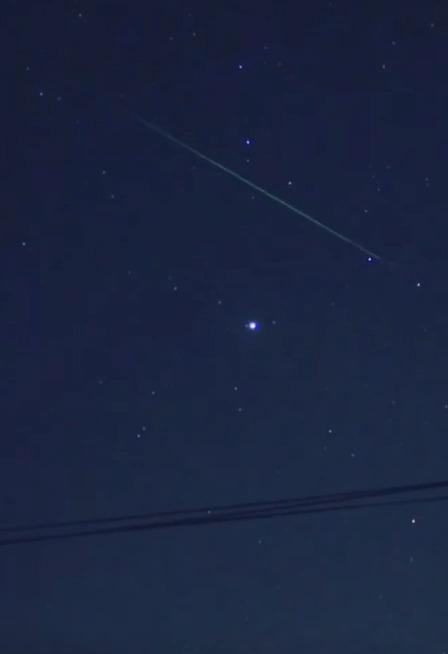meteorite: (193, 165, 390, 269)
